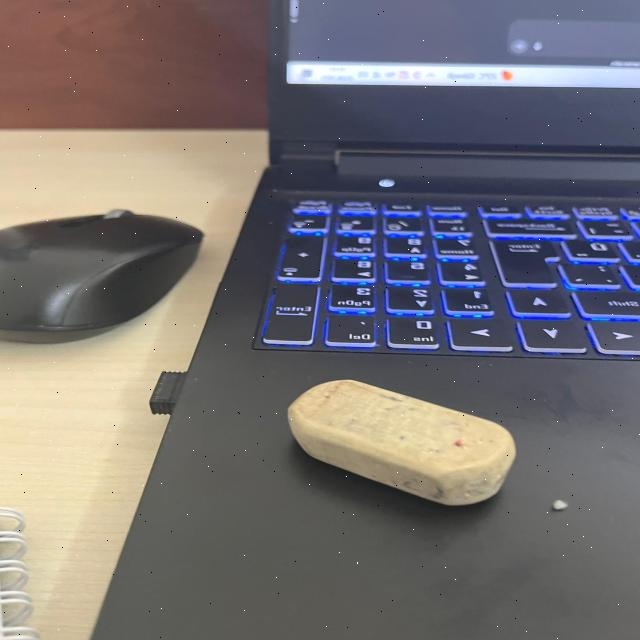eraser: (271, 368, 523, 516)
